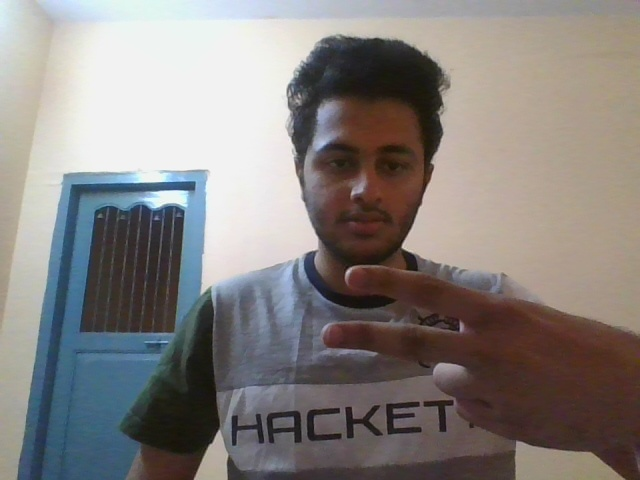Peace: (316, 257, 637, 468)
